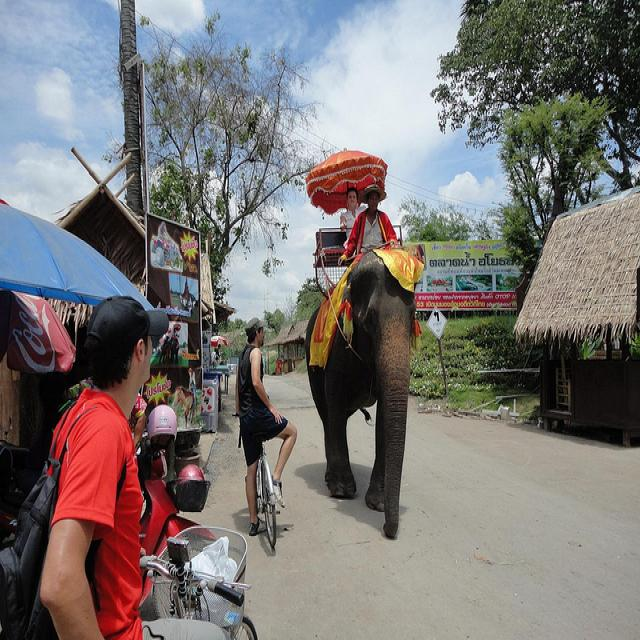motor: (134, 407, 211, 554)
